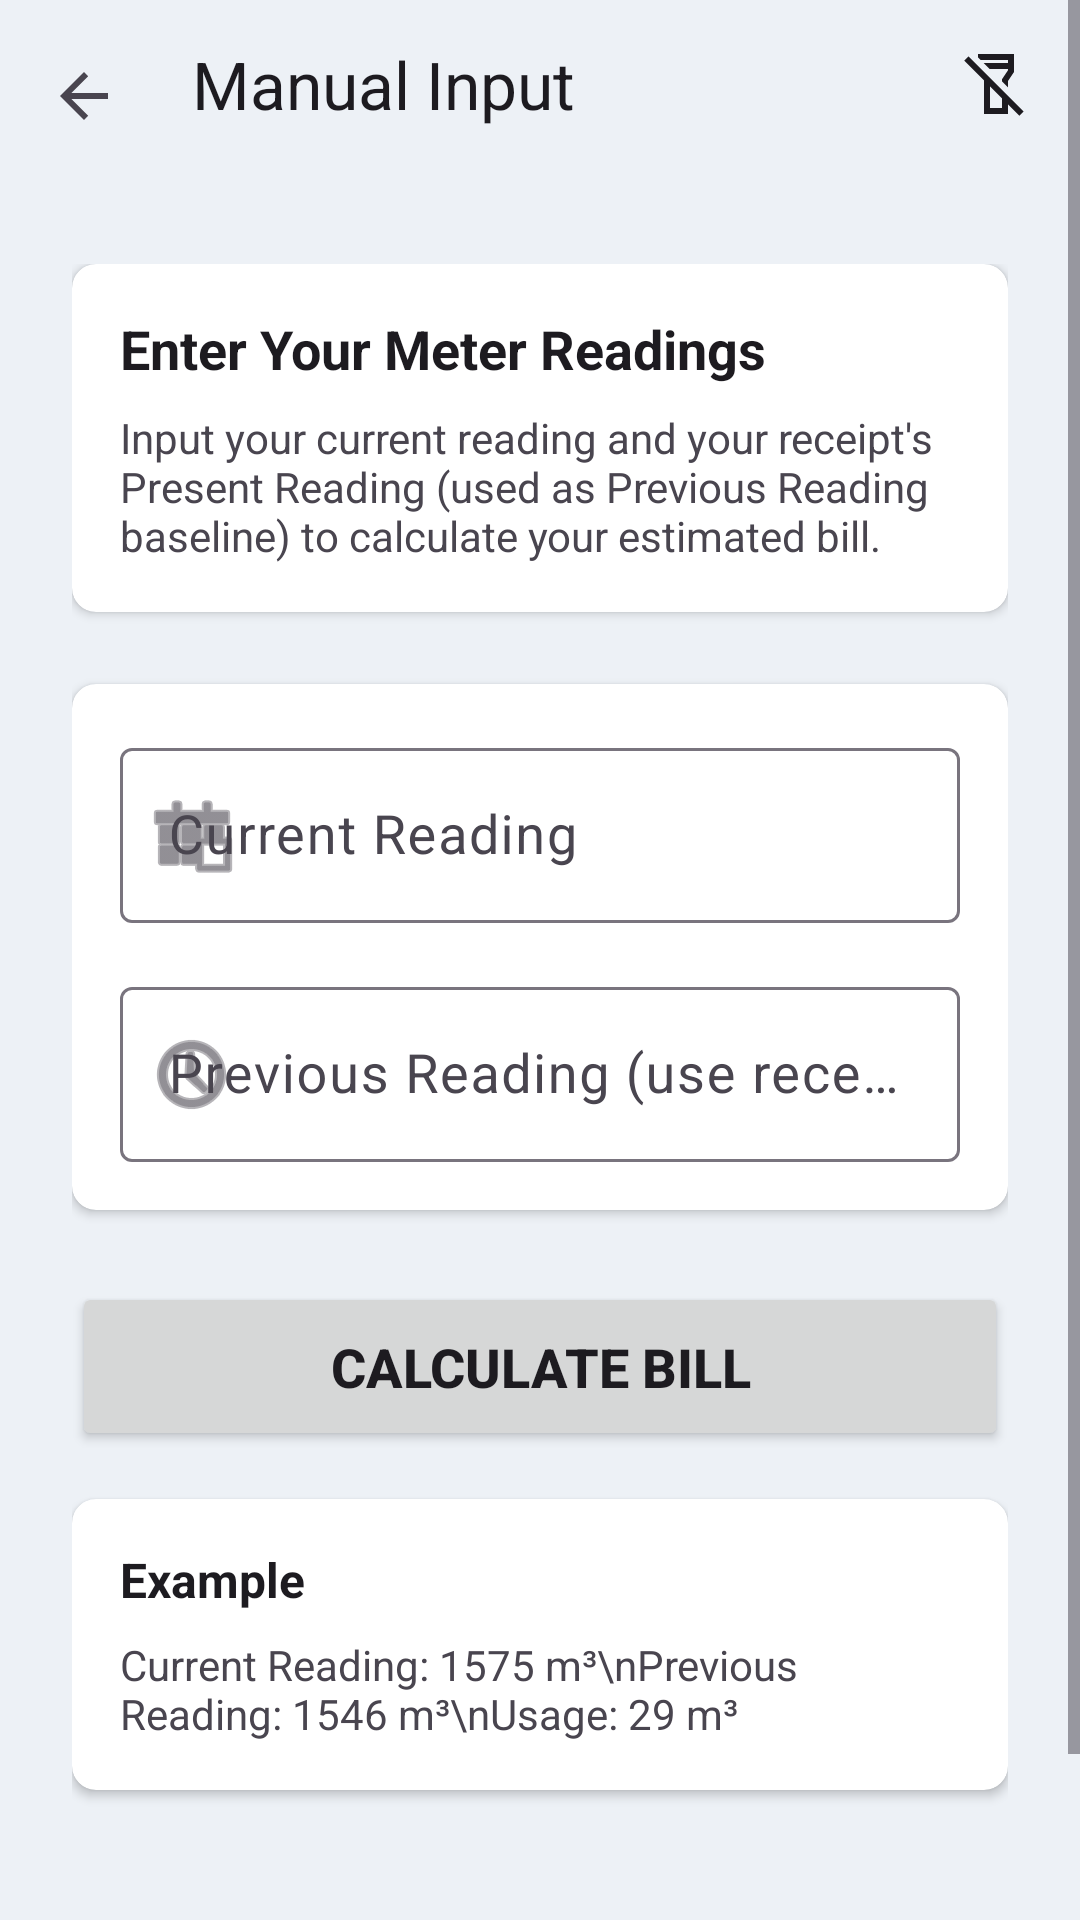

Where icons sit on this 1080 × 1920 app screen, as (x1, y1, x2, y2):
Toggle torch: (964, 54, 1024, 116)
